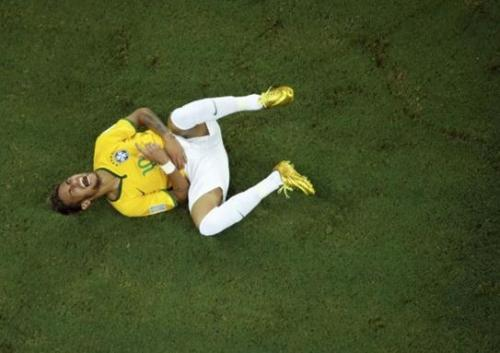fall: (37, 69, 319, 239)
